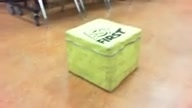cube: (64, 18, 143, 93)
